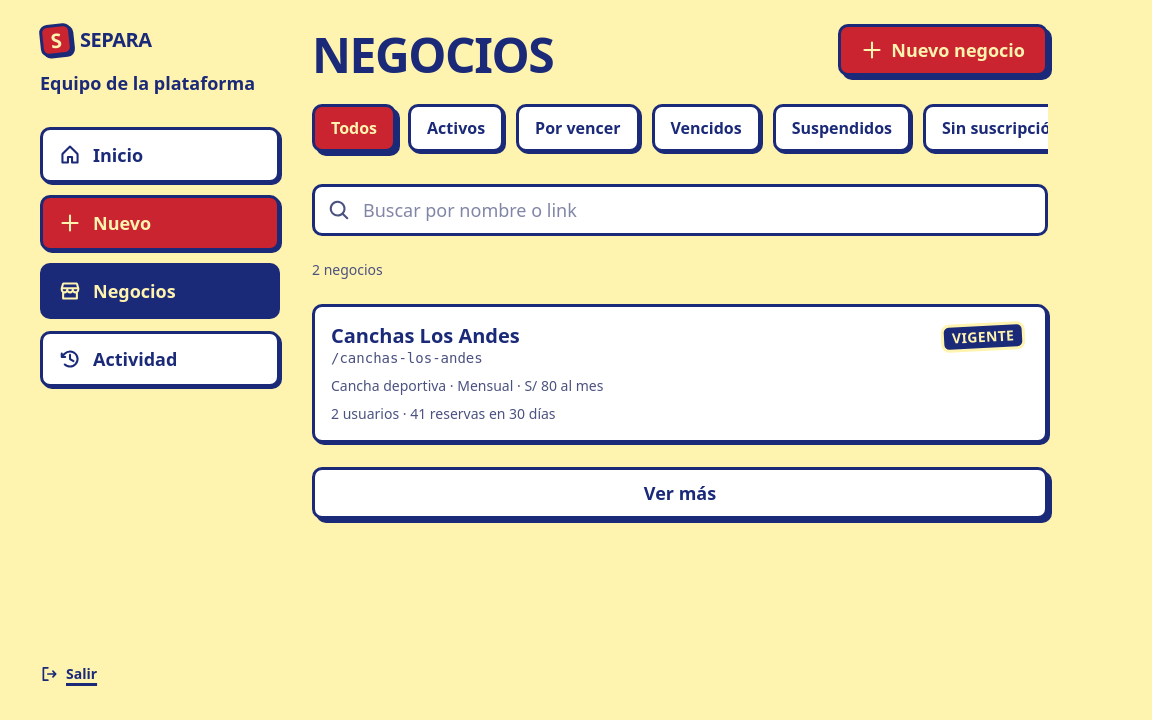
Test: the list of businesses › loads more when there are more
Click the button "Ver más" at (680, 493), box [312,467,1048,519]
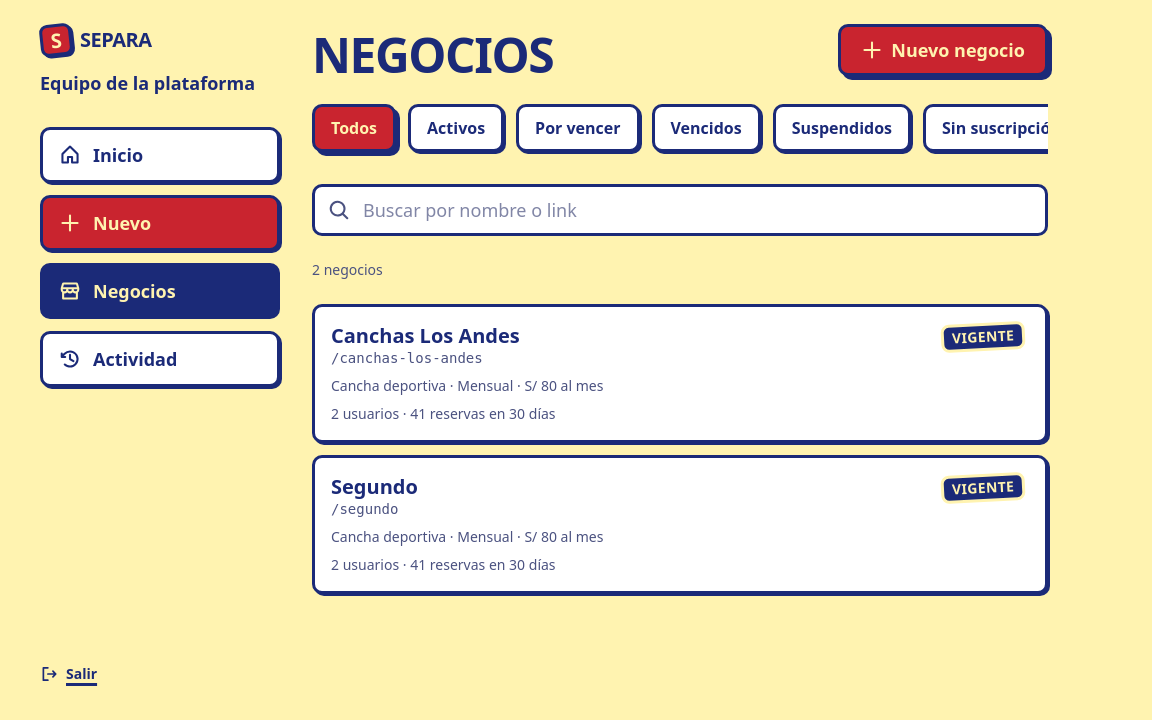
Check: the link "Segundo" is shown, box [312,455,1048,594]
Check: the button "Ver más" is gone
